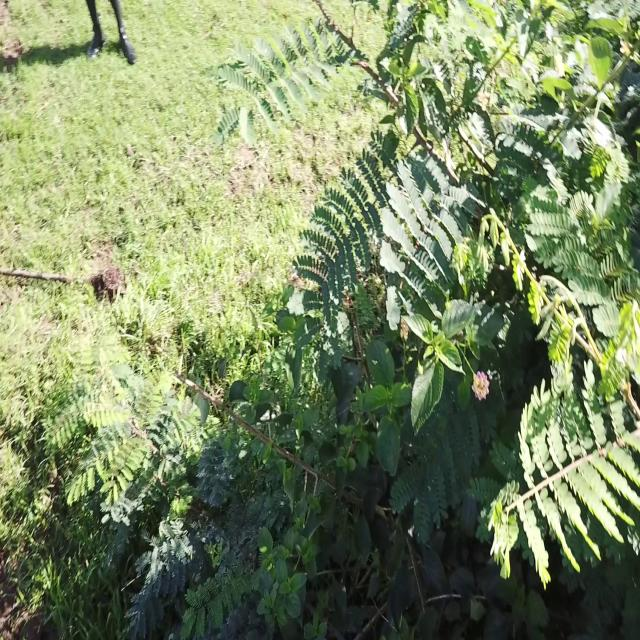Mysore-Thorn-Weed: (217, 5, 640, 567), (61, 329, 357, 640)
